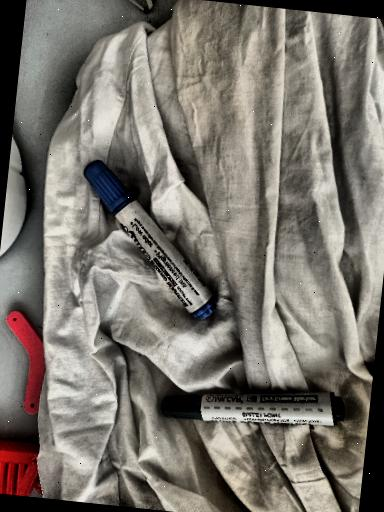marcador azul: (84, 161, 216, 319)
marcador negro: (161, 391, 344, 426)
